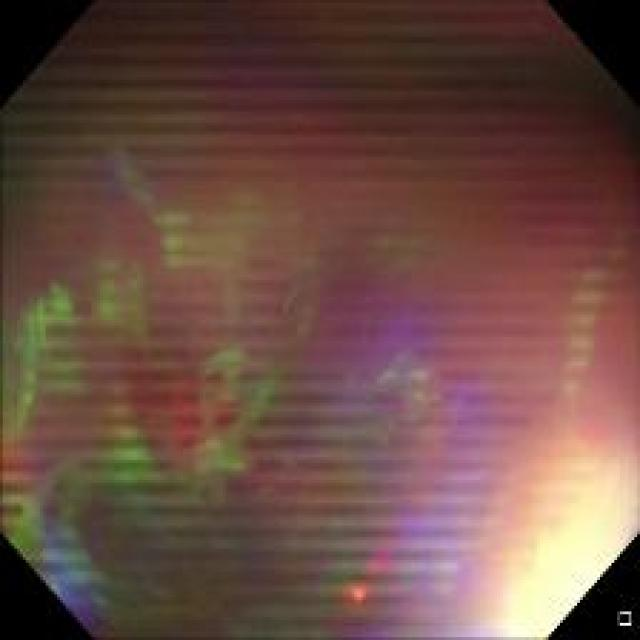color misalignment: (6, 6, 632, 635)
saturation: (486, 451, 628, 626)
